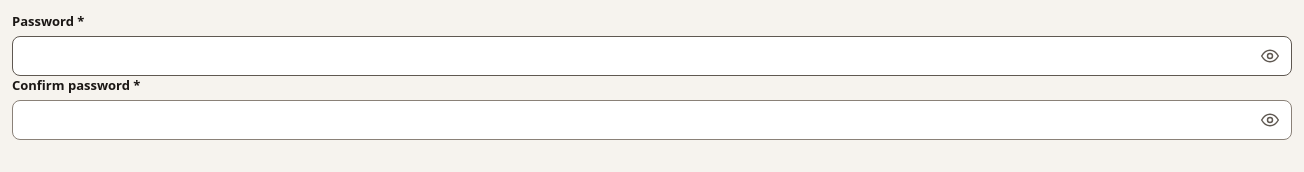
Scenario: password visibility › supports keyboard toggles without changing the independent confirmation field
Type "Synthetic!2026" into the password field labelled "Password *" at {"x": 652, "y": 56}, box [12,36,1292,76]
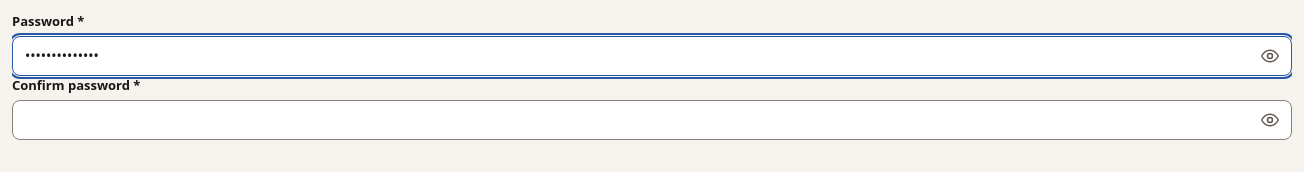
Type "Synthetic!2026" into the password field labelled "Confirm password *" at {"x": 652, "y": 120}, box [12,100,1292,140]
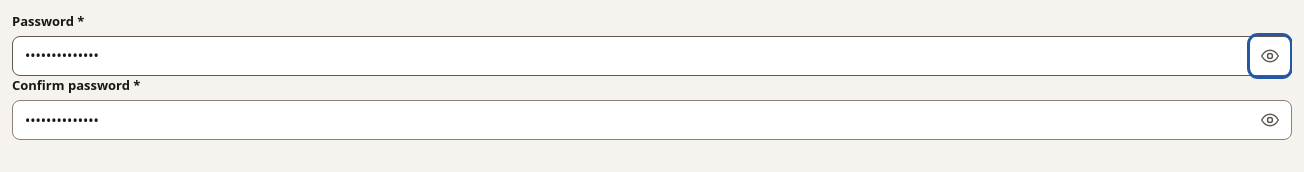
Press Enter
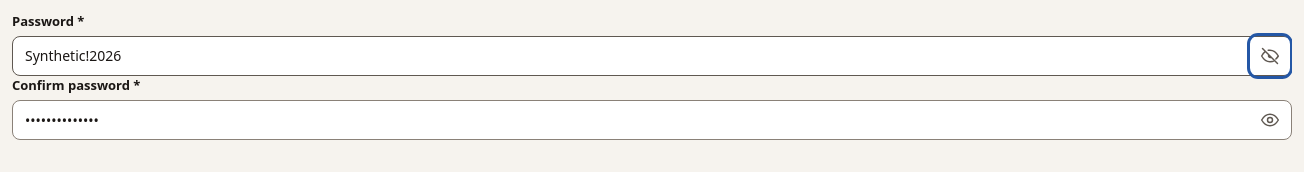
Check: the field labelled "Password *" shows its text, box [12,36,1292,76]
Type keys " "
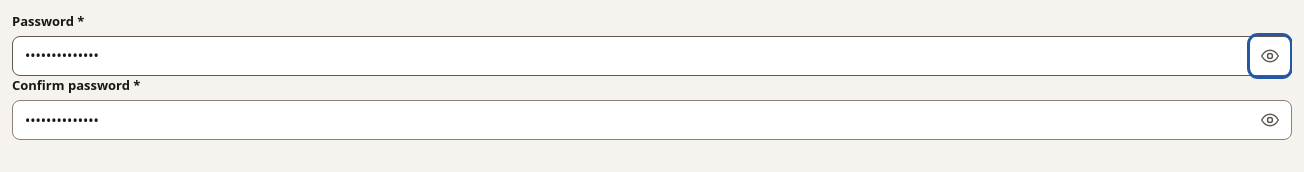
Check: the password field labelled "Password *" hides its text, box [12,36,1292,76]
Click the 2nd button named "Show confirm password" at {"x": 1270, "y": 120}, box [1252,102,1288,138]
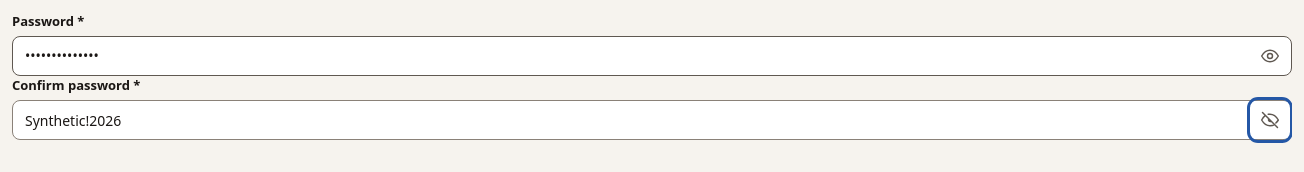
Check: the password field labelled "Password *" hides its text, box [12,36,1292,76]
Check: the field labelled "Confirm password *" shows its text, box [12,100,1292,140]
